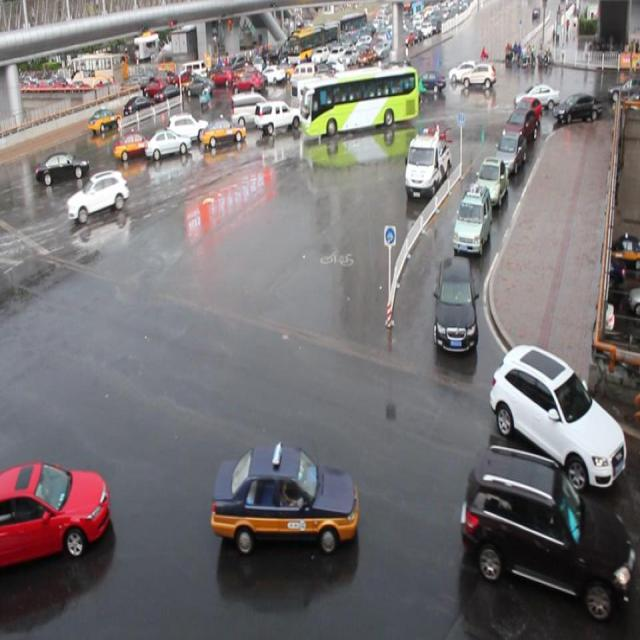bus: (402, 129, 452, 202)
car: (462, 444, 631, 616), (489, 342, 624, 489), (212, 442, 358, 551), (1, 462, 110, 562), (432, 256, 477, 352), (67, 171, 128, 220), (452, 184, 491, 252), (36, 146, 89, 184), (252, 96, 302, 133), (199, 112, 247, 150), (472, 157, 507, 208), (144, 126, 192, 160), (166, 108, 209, 144), (495, 124, 527, 170), (507, 106, 539, 150), (113, 129, 153, 158), (318, 90, 355, 117), (517, 94, 543, 132)
truck: (288, 75, 332, 115), (228, 90, 271, 128)
van: (302, 70, 416, 131)
